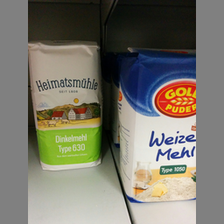flour: (119, 48, 196, 203), (28, 41, 109, 170)
